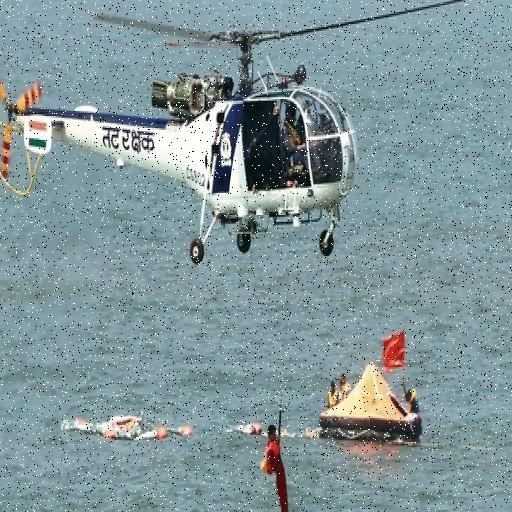helicopter: (1, 1, 479, 282)
